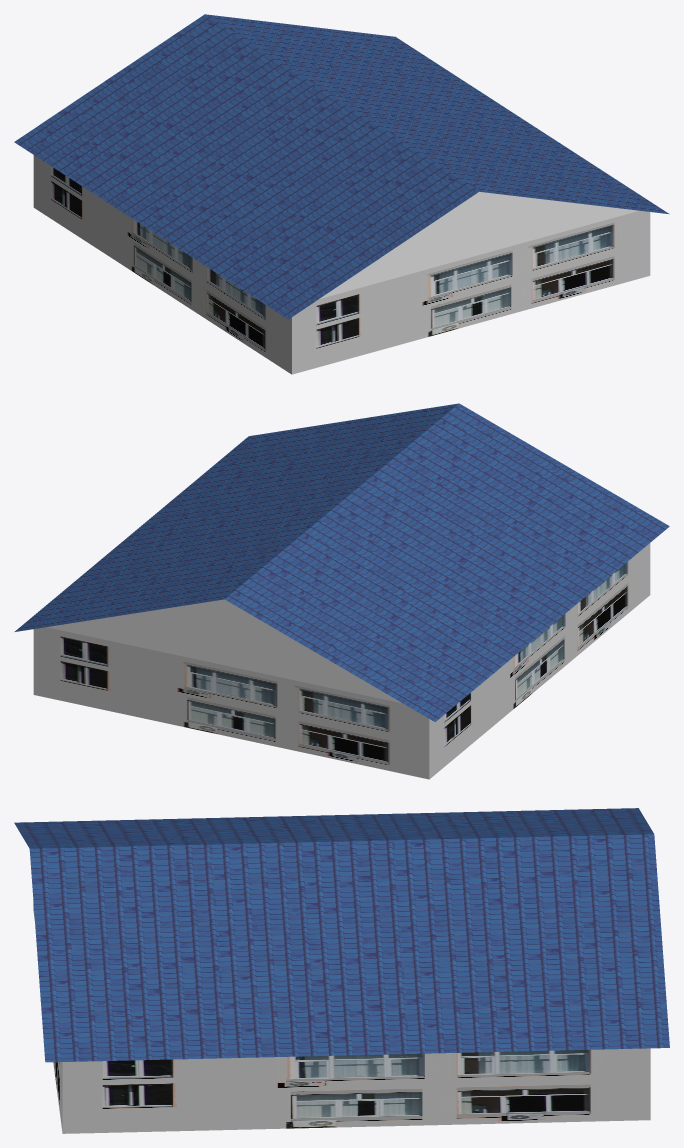
The picture shows the model from 3 angles, top to bottom: view 1: azimuth 30°, elevation 25°; view 2: azimuth 150°, elevation 25°; view 3: azimuth 270°, elevation 25°; orthographic projection. The views are drawn at different scales.
Visible parts, largest first — view 1: CityEngineMaterial_10_m, CityEngineMaterial_9_m, CityEngineMaterial_3_m; view 2: CityEngineMaterial_10_m, CityEngineMaterial_9_m, CityEngineMaterial_3_m; view 3: CityEngineMaterial_10_m, CityEngineMaterial_9_m.
Part boxes in pixels (left/top/right/bottom): CityEngineMaterial_10_m: left=14, top=14, right=669, bottom=319; CityEngineMaterial_9_m: left=33, top=155, right=650, bottom=374; CityEngineMaterial_3_m: left=319, top=192, right=638, bottom=298; CityEngineMaterial_10_m: left=14, top=403, right=669, bottom=721; CityEngineMaterial_9_m: left=33, top=543, right=650, bottom=779; CityEngineMaterial_3_m: left=46, top=599, right=401, bottom=703; CityEngineMaterial_10_m: left=14, top=808, right=669, bottom=1062; CityEngineMaterial_9_m: left=33, top=902, right=650, bottom=1133.
Size of the model in its own units: 32.94 by 10.44 by 35.9.
